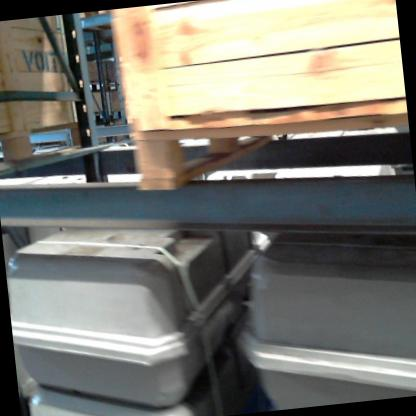pallet: (130, 100, 414, 204), (0, 121, 85, 169), (94, 107, 123, 124), (88, 78, 118, 94), (79, 9, 109, 18)
